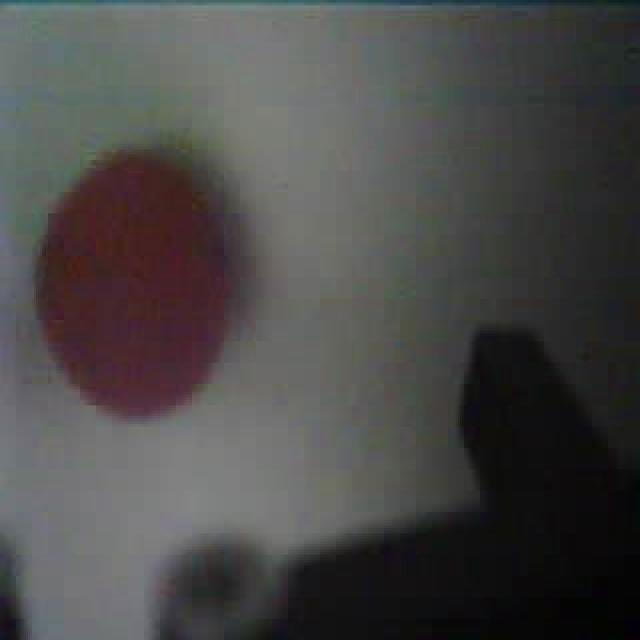red_ball: (30, 136, 252, 424)
